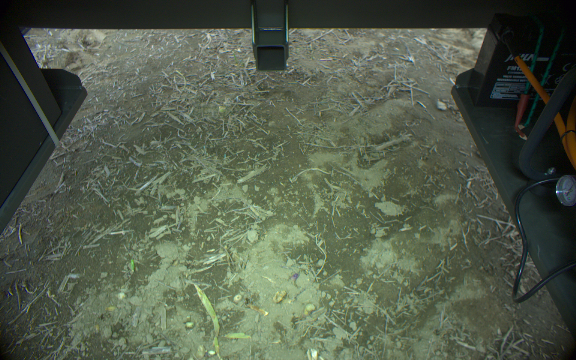aspa: (190, 280, 225, 356)
